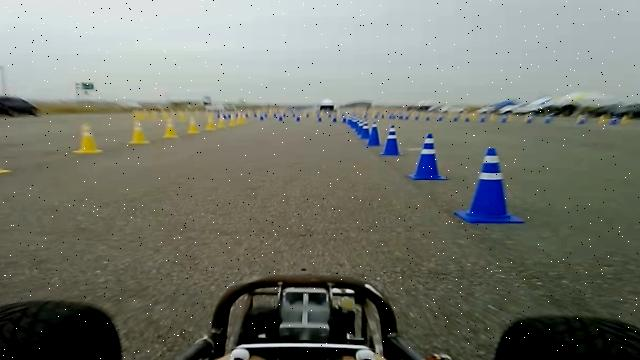blue cone: (454, 147, 525, 224), (409, 132, 449, 180), (380, 124, 404, 156), (366, 122, 382, 146)
yellow cone: (73, 122, 103, 154), (129, 120, 150, 144), (0, 136, 12, 176), (163, 118, 179, 138), (187, 116, 200, 134), (205, 112, 216, 131), (238, 112, 248, 124), (218, 114, 226, 128), (229, 114, 237, 126)
